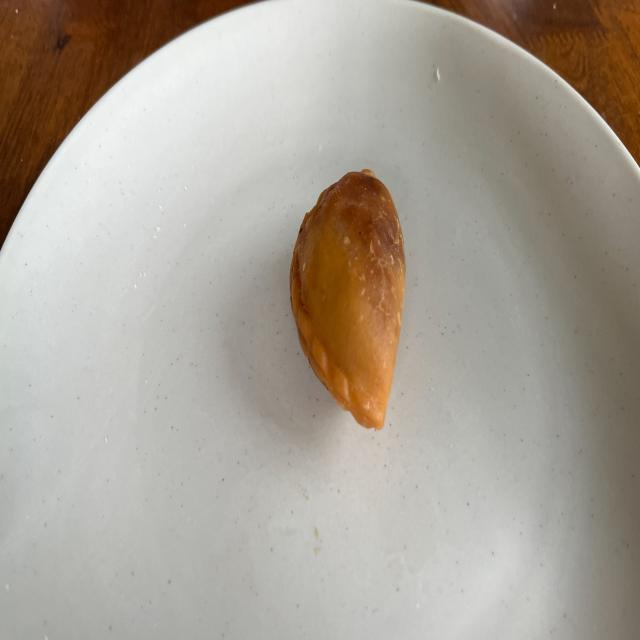karipap: (290, 169, 405, 429)
